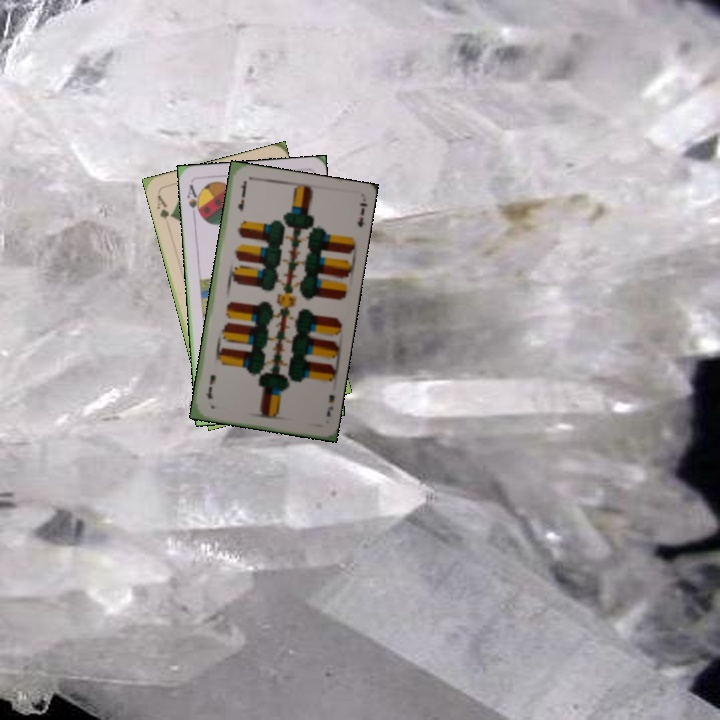E7: (234, 178, 249, 214), (322, 391, 337, 419)
GA: (153, 191, 175, 222)
SA: (183, 181, 204, 220)
